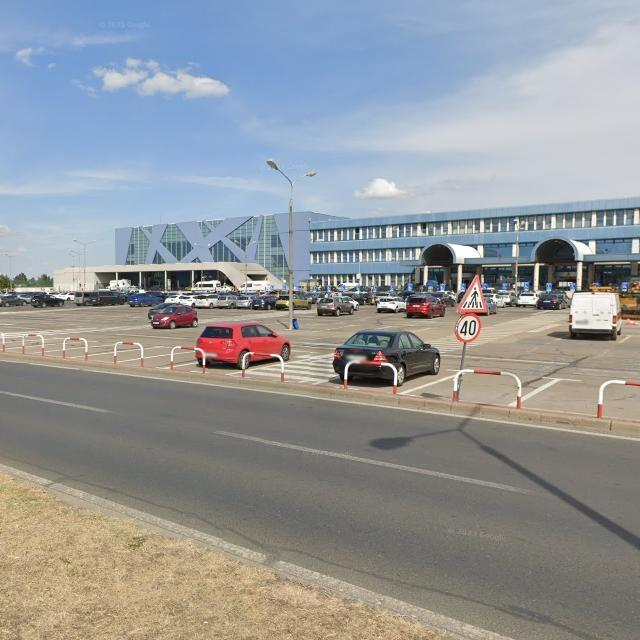forb_speed_over_40: (455, 313, 481, 343)
warn_crosswalk: (456, 273, 488, 313)
